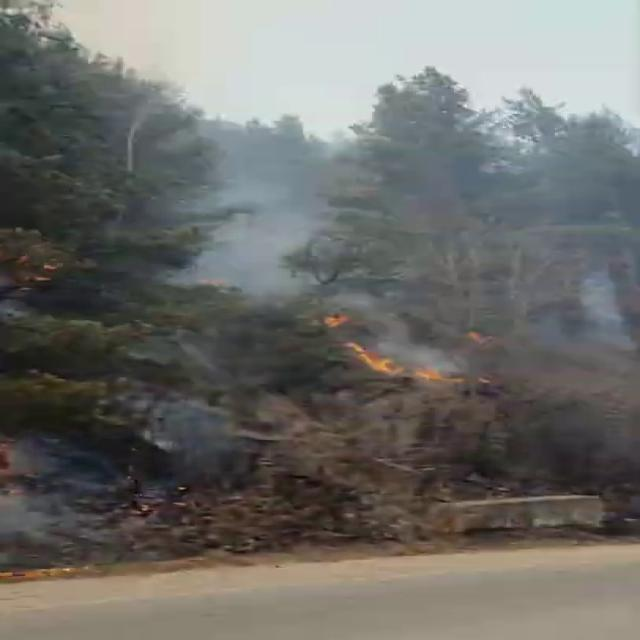Smoke: (158, 113, 378, 303)
